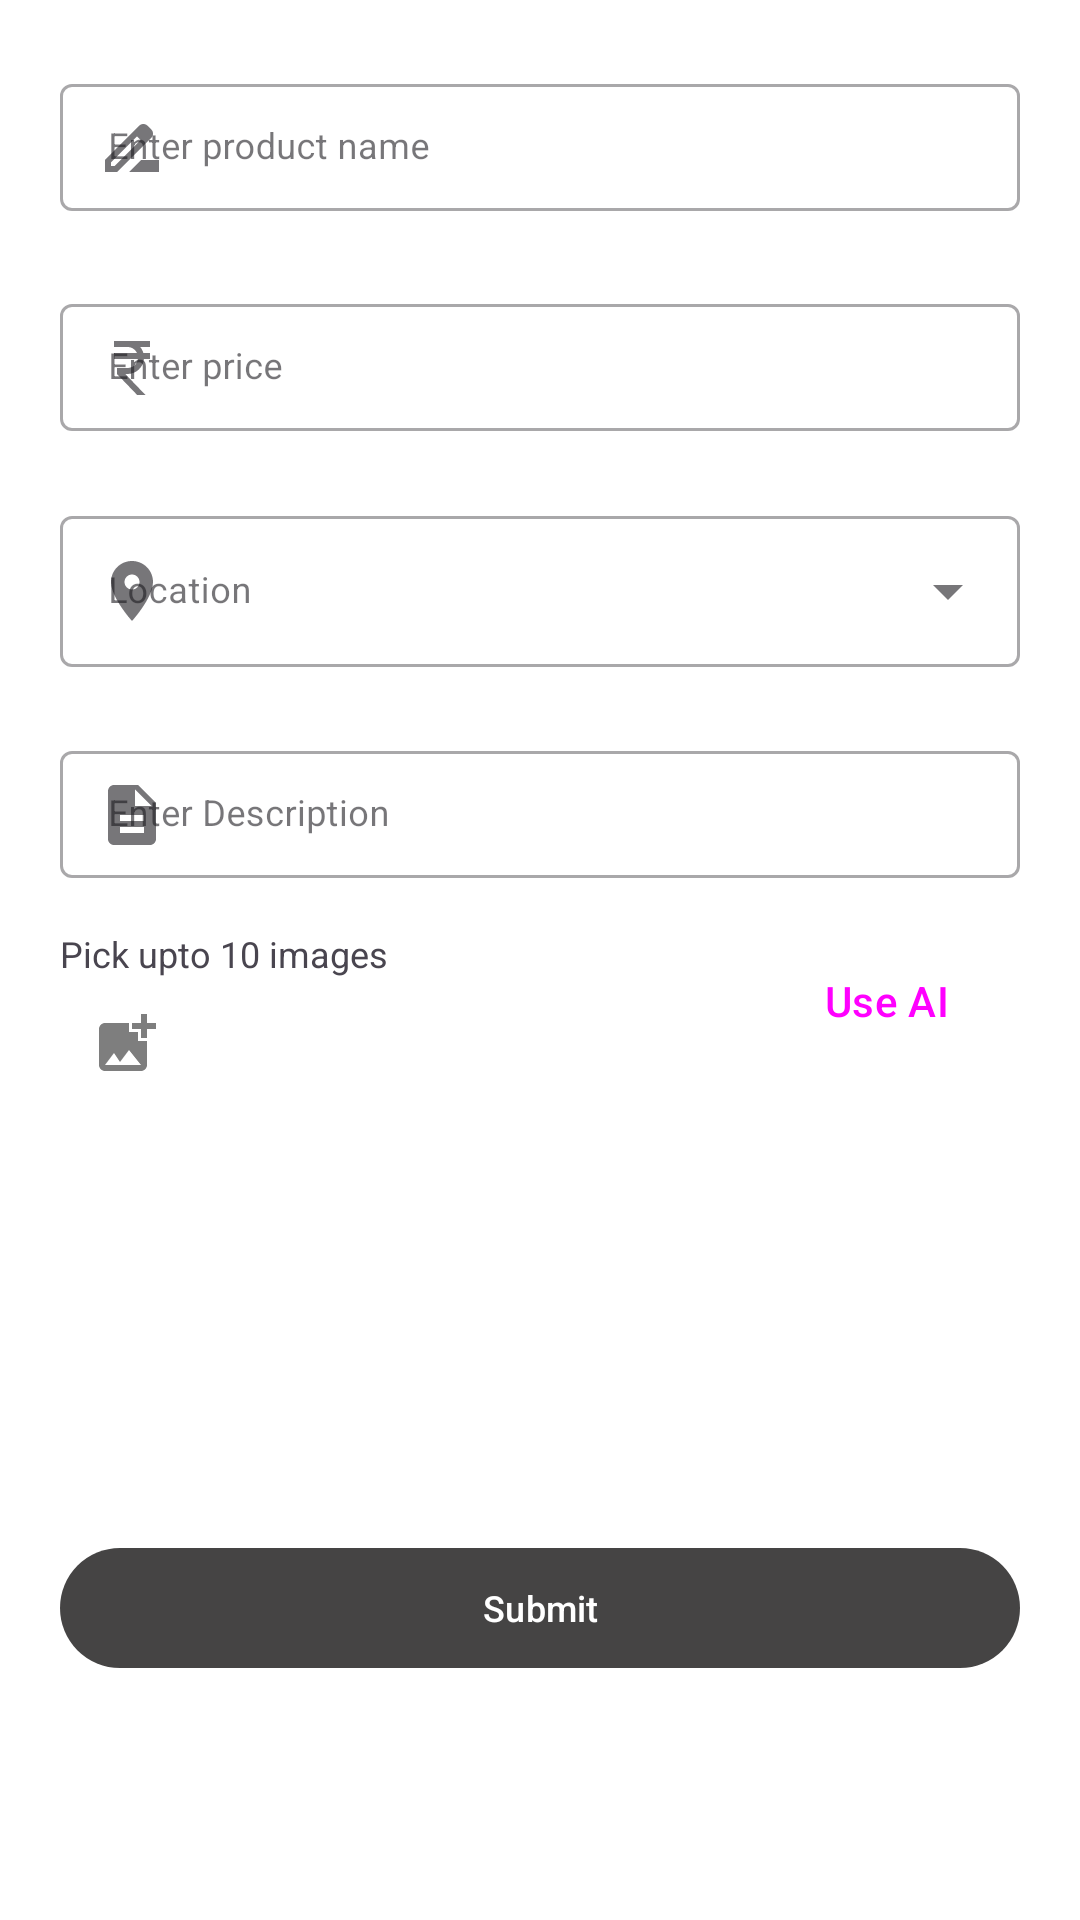

Where icons sit on this 1080px×1920px app screen, as (x1, y1, x2, y2):
add photo alternate: (99, 1014, 156, 1071)
